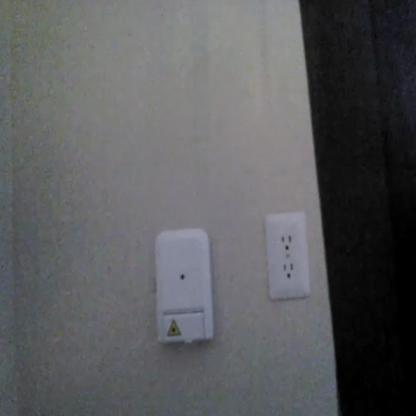OUTLET: (266, 211, 310, 300)
